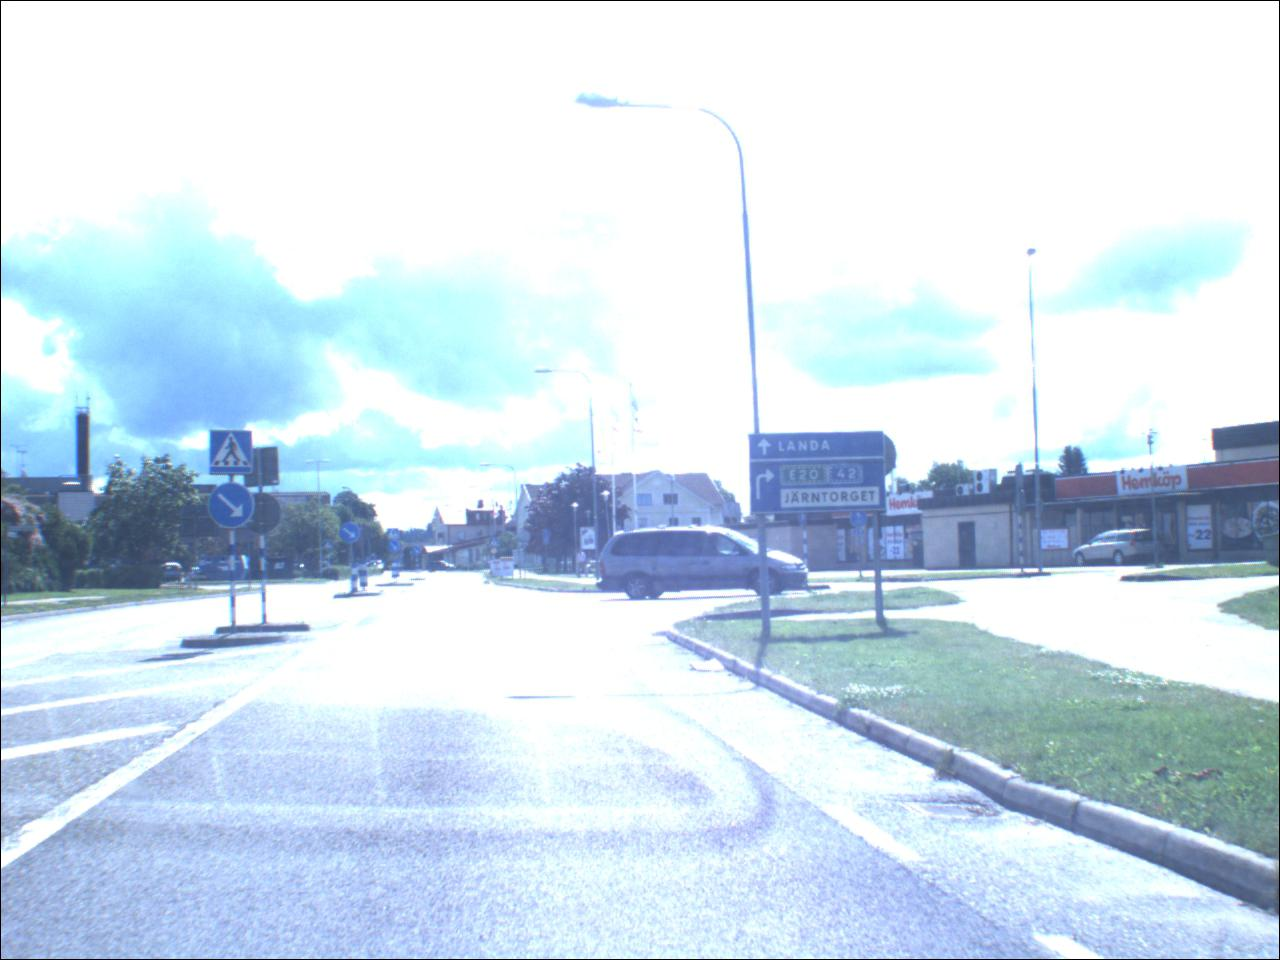PASS_RIGHT_SIDE: (211, 484, 257, 530), (341, 523, 363, 545), (390, 542, 402, 554), (413, 547, 424, 557)
PEDESTRIAN_CROSSING: (211, 432, 255, 476), (389, 530, 402, 543), (326, 542, 336, 553), (491, 541, 500, 548)
PRIORITY_ROAD: (492, 550, 501, 557)
